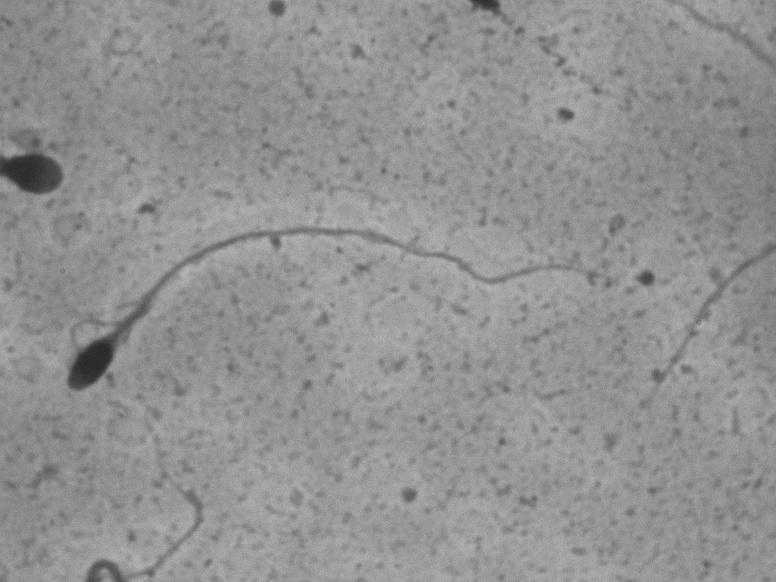Normal: (53, 218, 630, 408)
